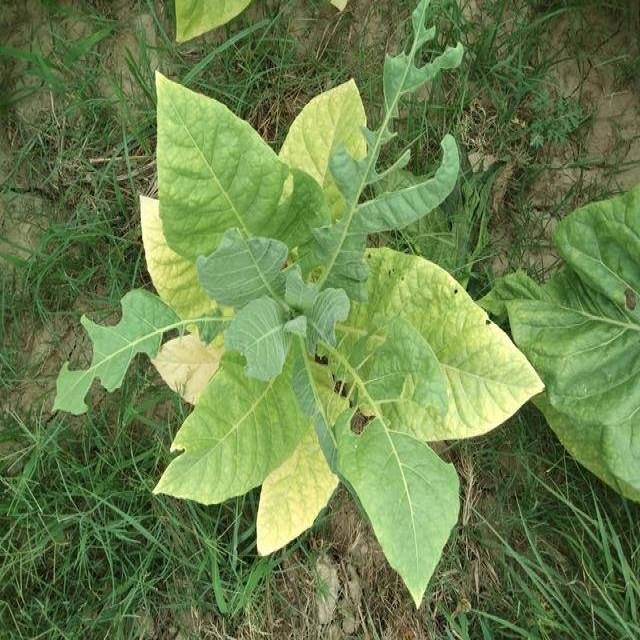crop: (49, 55, 546, 612)
